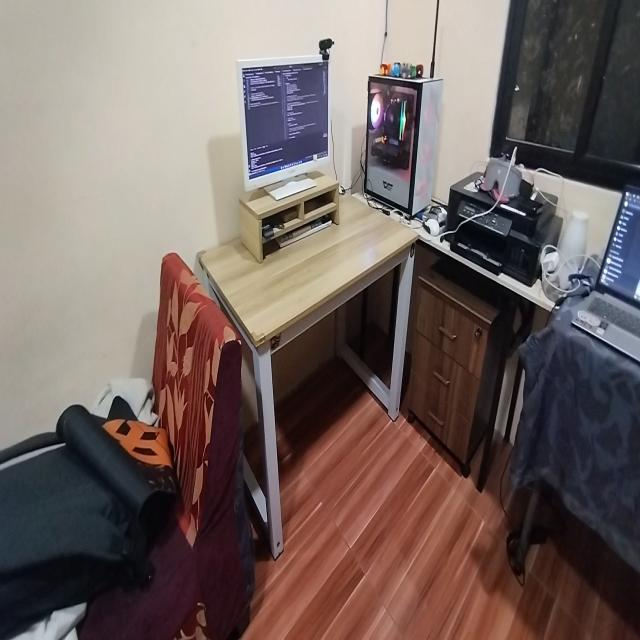table: (218, 187, 420, 502)
